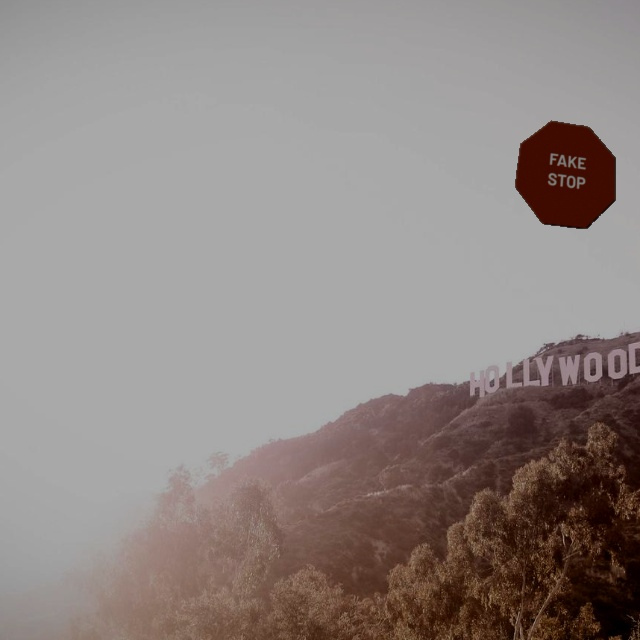FAKE_STOP: (514, 120, 616, 229)
